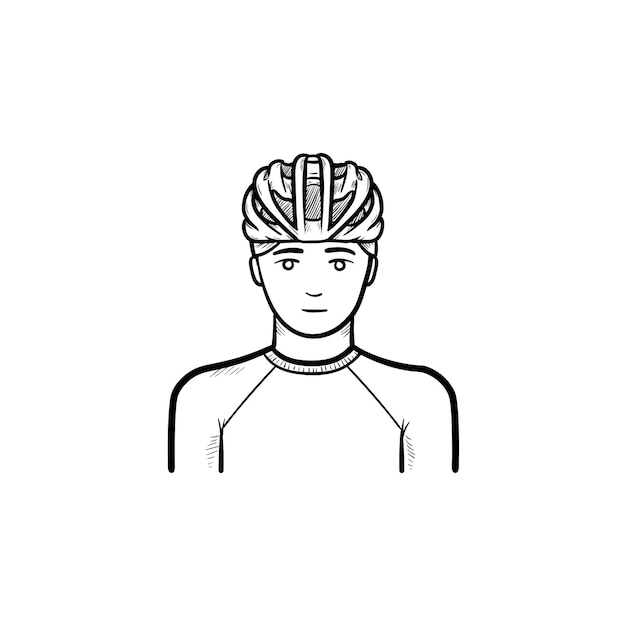helmet: (241, 154, 384, 337)
